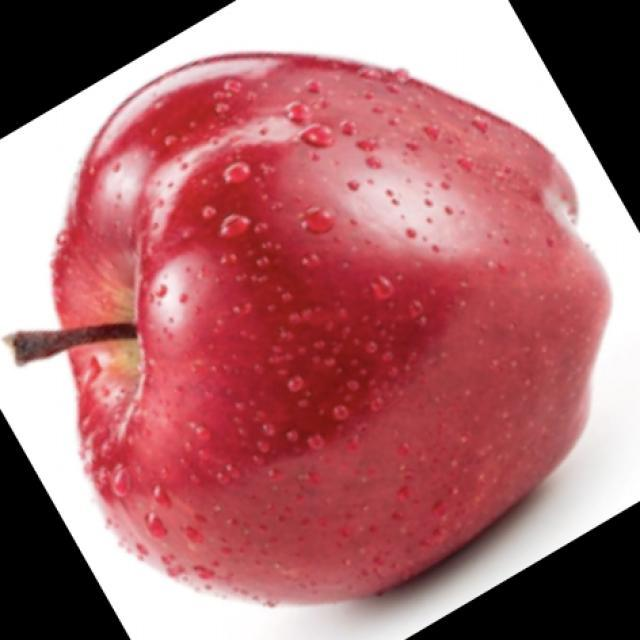Fresh Apple: (67, 62, 593, 600)
